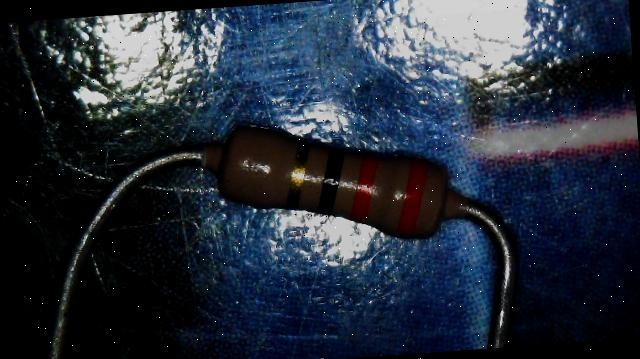black: (314, 148, 347, 215)
gold: (280, 140, 314, 208)
orange: (392, 156, 433, 237), (348, 153, 382, 221)
resistor: (202, 107, 481, 257)
